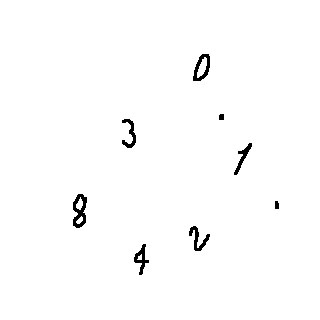.: (214, 110, 228, 121), (273, 197, 283, 212)
0: (190, 49, 218, 88)
1: (229, 137, 258, 181)
2: (184, 217, 213, 259)
3: (119, 117, 138, 155)
4: (121, 232, 153, 292)
8: (69, 186, 93, 239)
